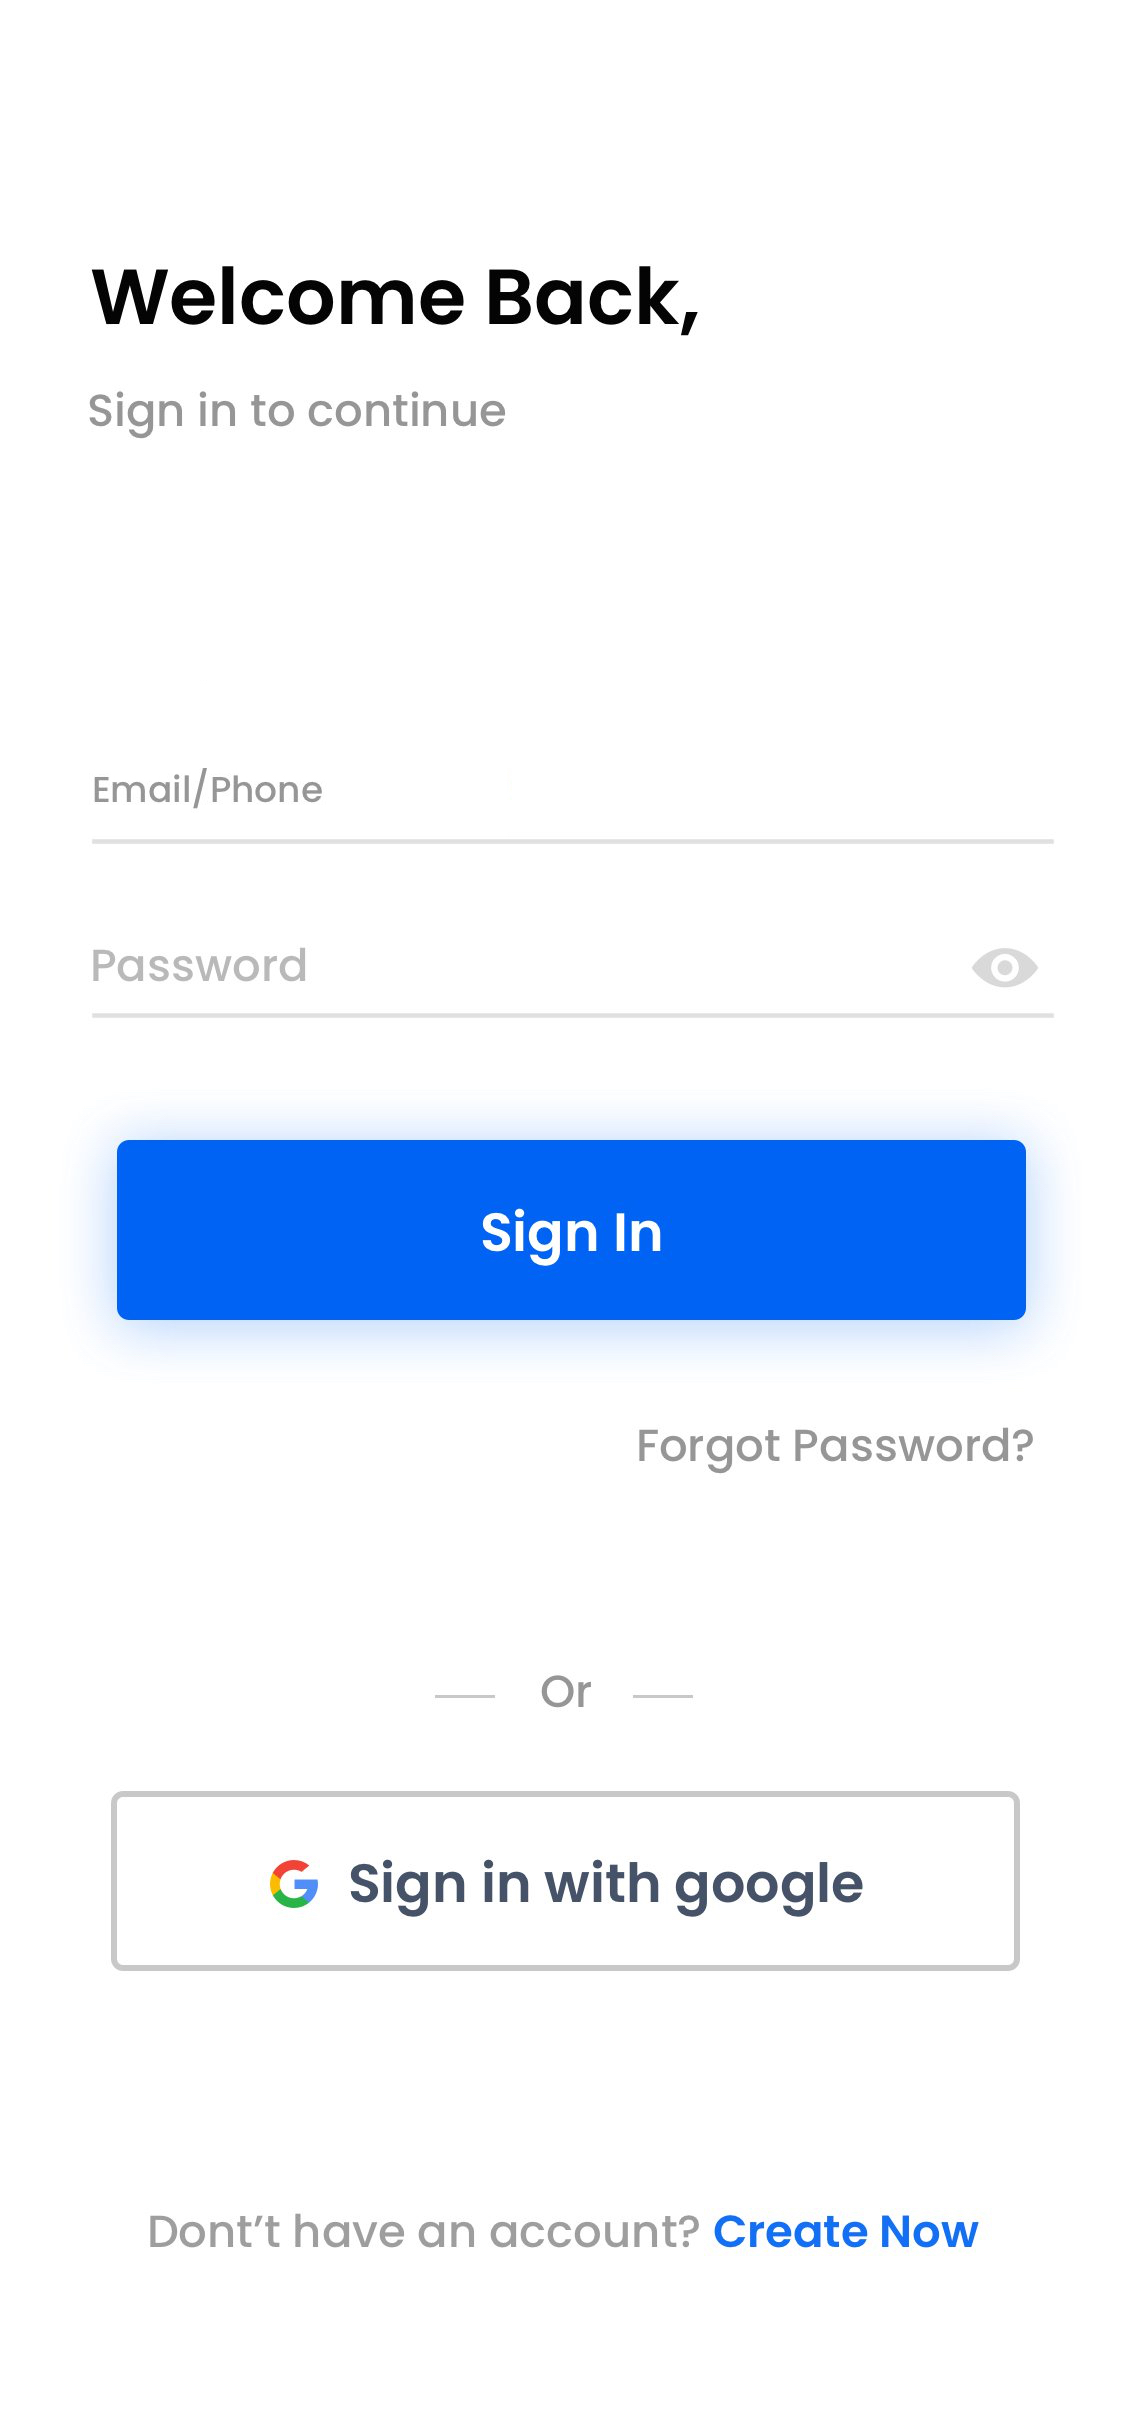EditText: (92, 767, 1055, 845), (92, 948, 1055, 1021)
Icon: (971, 948, 1040, 988)
Text: (92, 266, 699, 337), (151, 2212, 980, 2248), (90, 391, 507, 440), (639, 1428, 1033, 1474), (96, 767, 323, 809), (93, 948, 308, 983), (541, 1675, 592, 1707)
TextButton: (117, 1140, 1027, 1321), (112, 1791, 1021, 1971)
